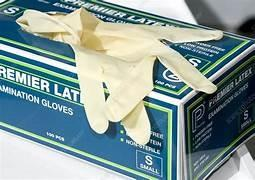Glove: (17, 9, 222, 143)
